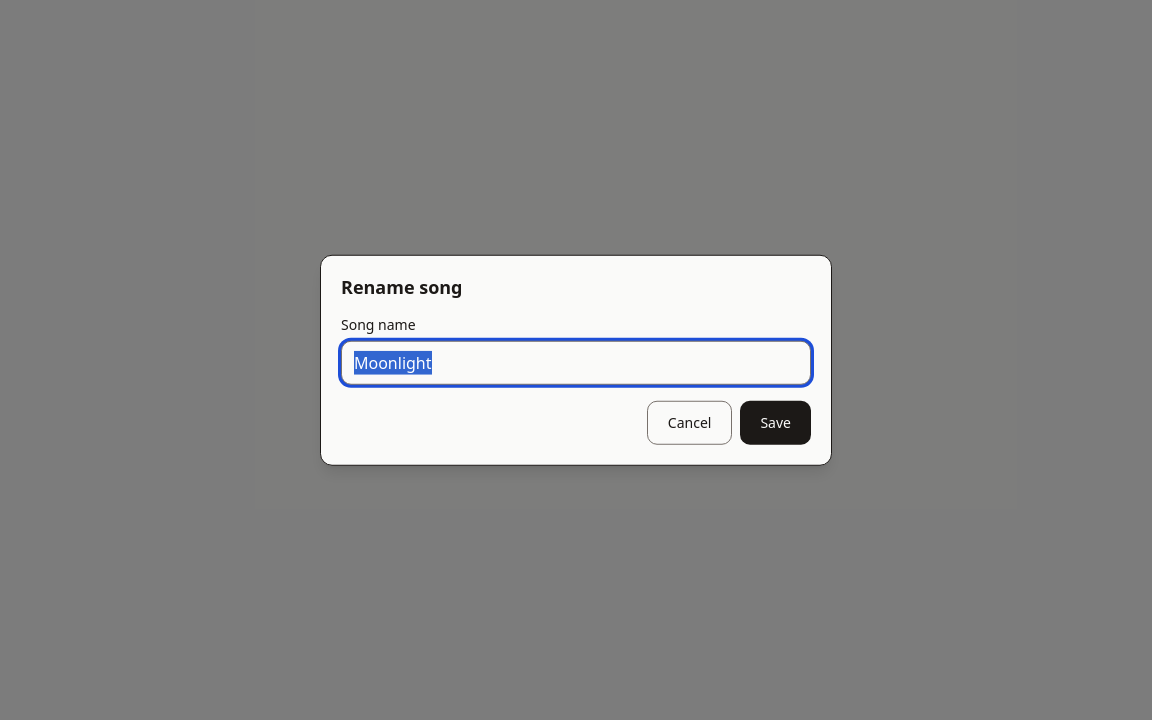
Test: explains when the name could not be saved and stays open
Type "!" into the field labelled "Song name".
click(576, 362); type("!")  # box 341,340 -> 811,384
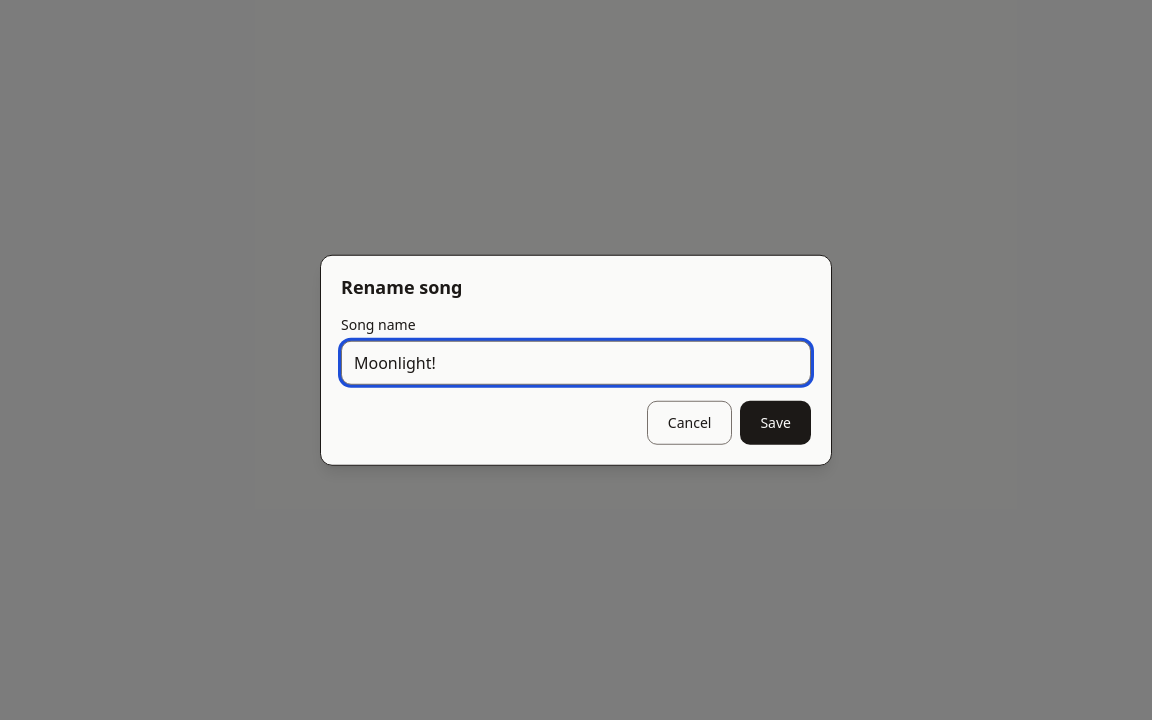
Click the button "Save".
click(776, 422)  # box 740,400 -> 811,444
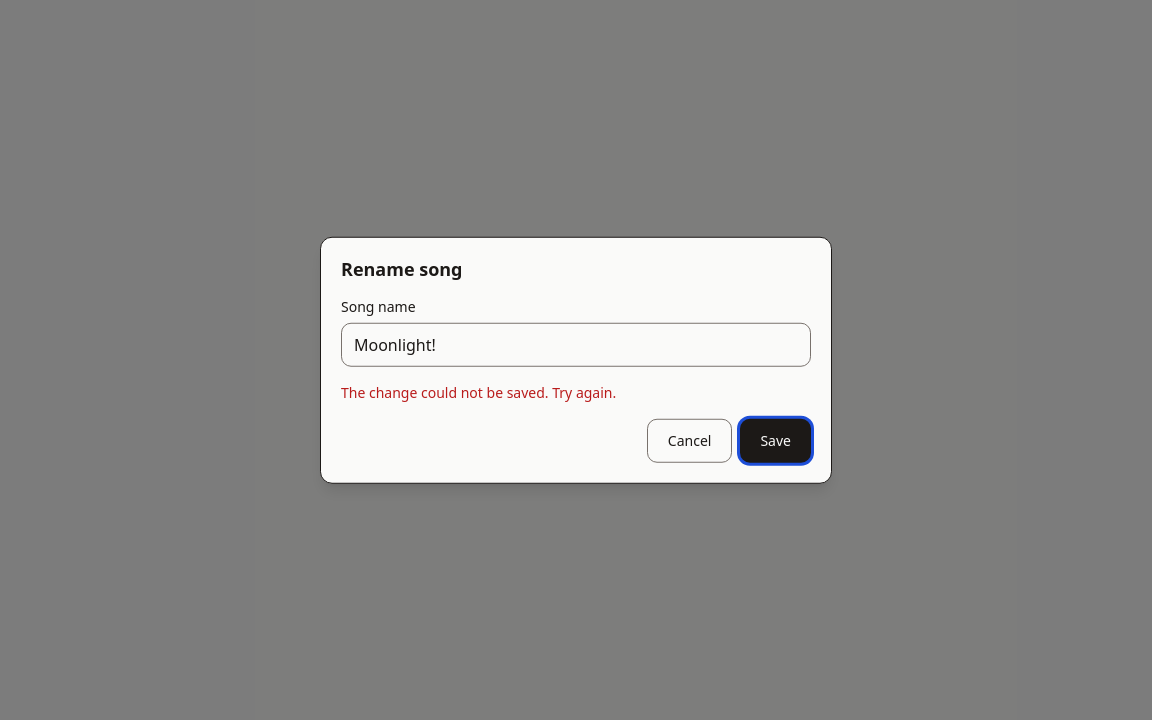
Now the message reads "The change could not be saved. Try again.", box 341,382 -> 616,401
